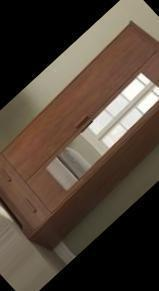Armario: (0, 14, 159, 251)
